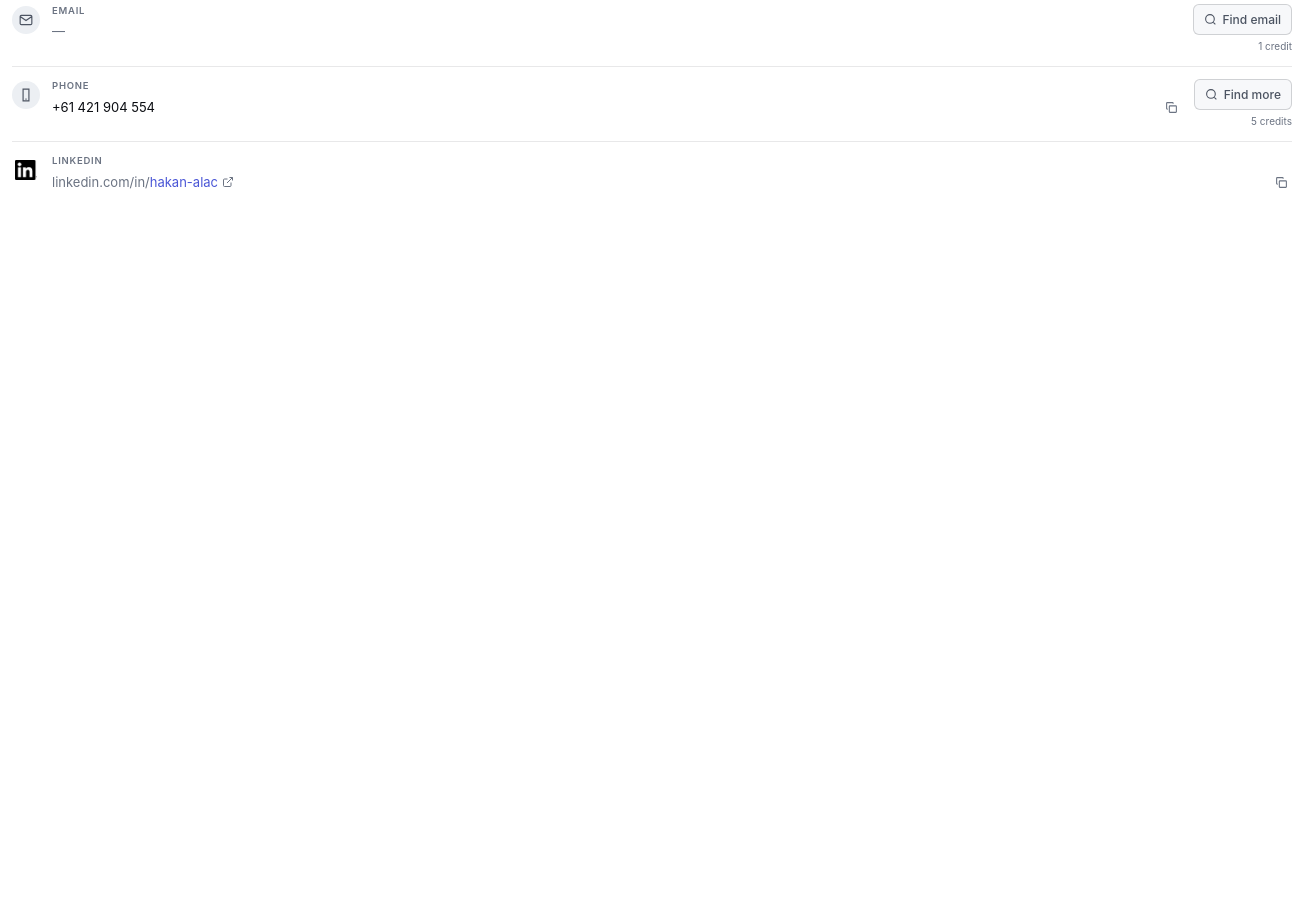
Scenario: ContactPanel › copies a value and says so
The image size is (1304, 900).
Click the button named "Copy phone".
click(1171, 107)  # box x1=1161 y1=97 x2=1182 y2=118
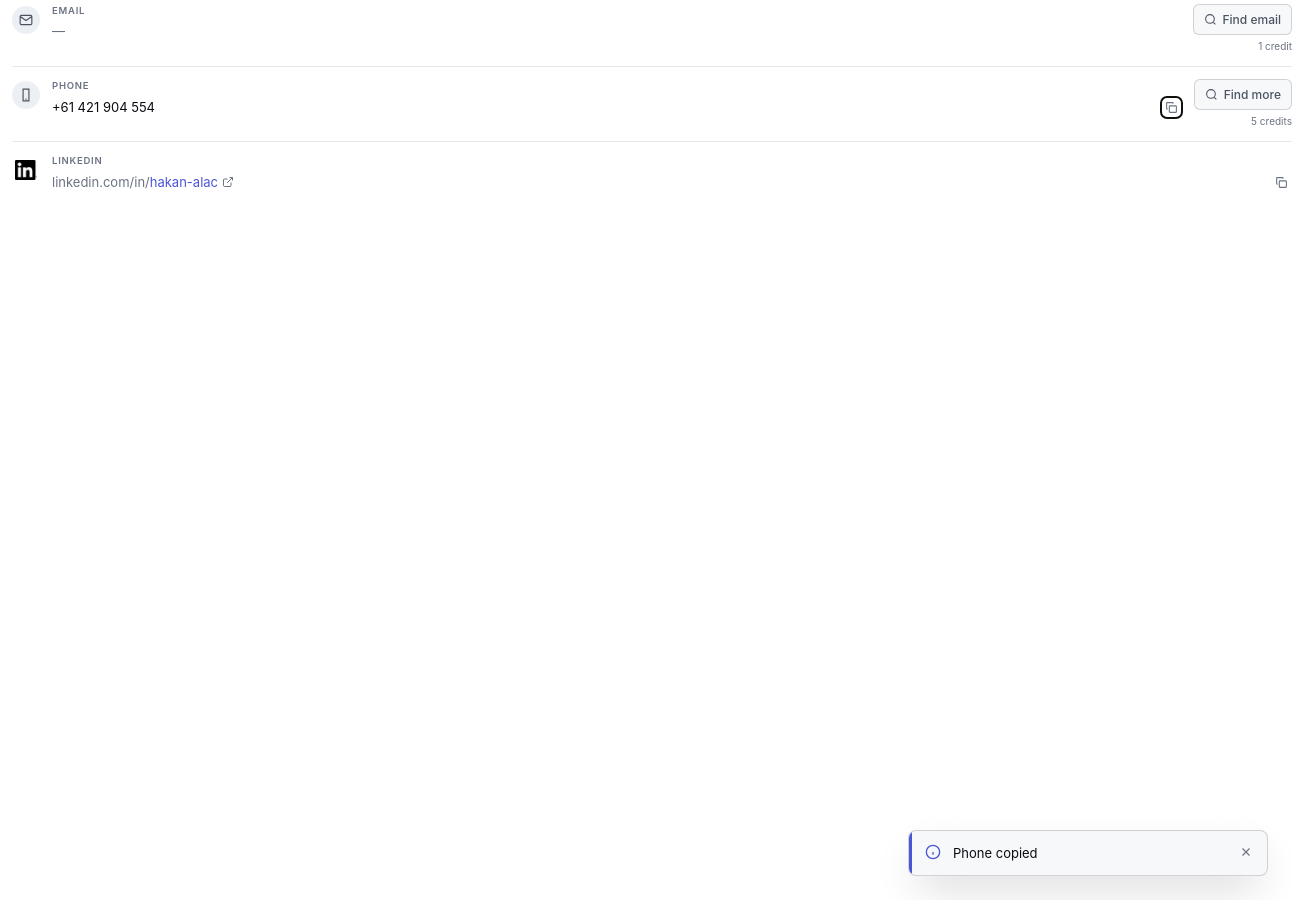
Expected: the message reads "Phone copied", x1=953 y1=845 x2=1038 y2=861
